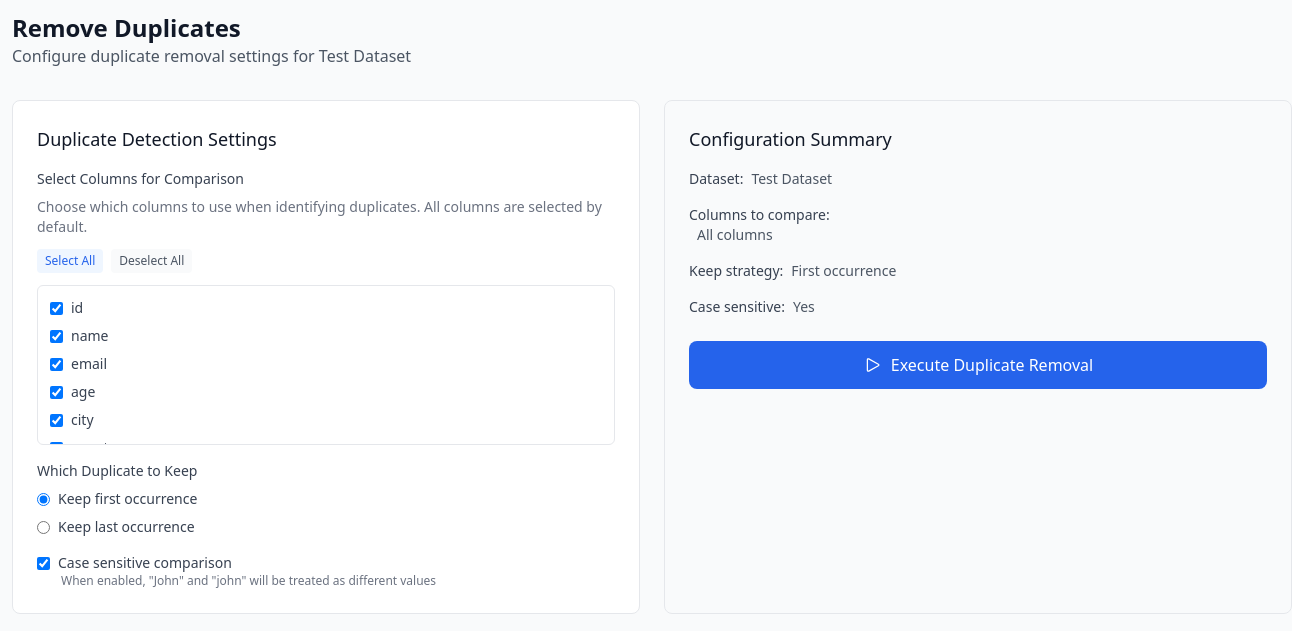
Test: RemoveDuplicates › Deselect All button deselects all columns
The image size is (1292, 631).
expect the checkbox labelled "email" is checked: met, box top-left (50, 358), bottom-right (63, 370)
Click Deselect All
Click the button "Deselect All" at (152, 261), box top-left (111, 249), bottom-right (192, 273)
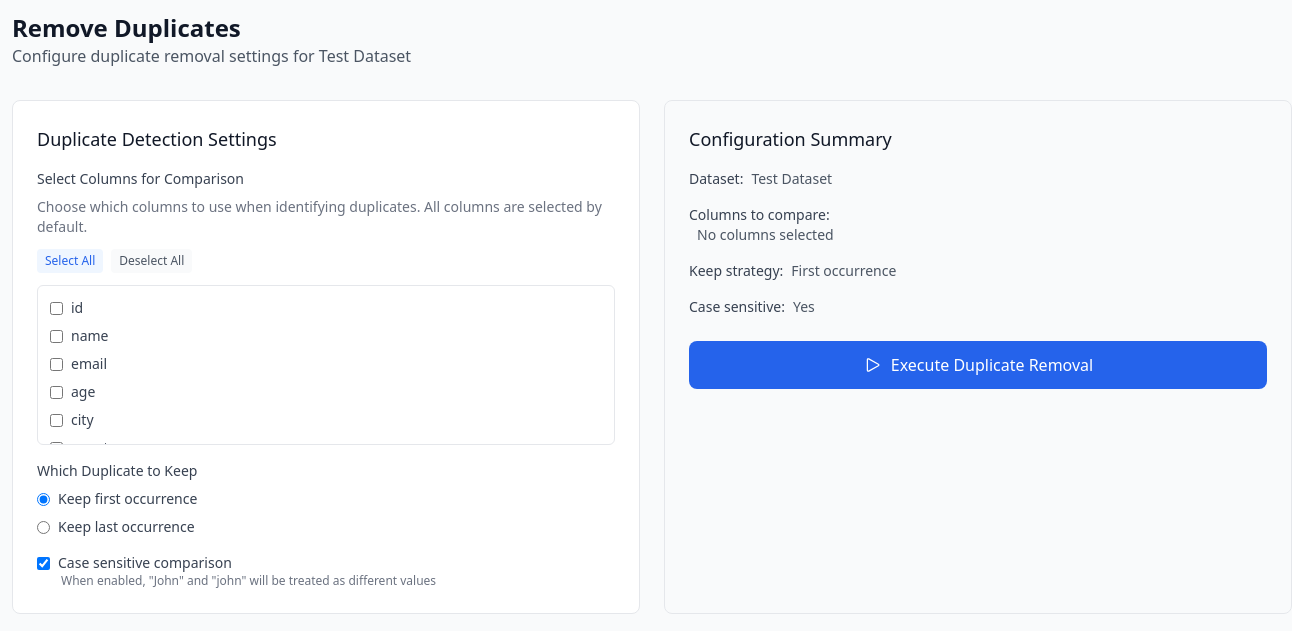
expect the checkbox labelled "email" is not checked: met, box top-left (50, 358), bottom-right (63, 370)
expect the text "No columns selected" is shown: met, box top-left (697, 225), bottom-right (834, 244)
